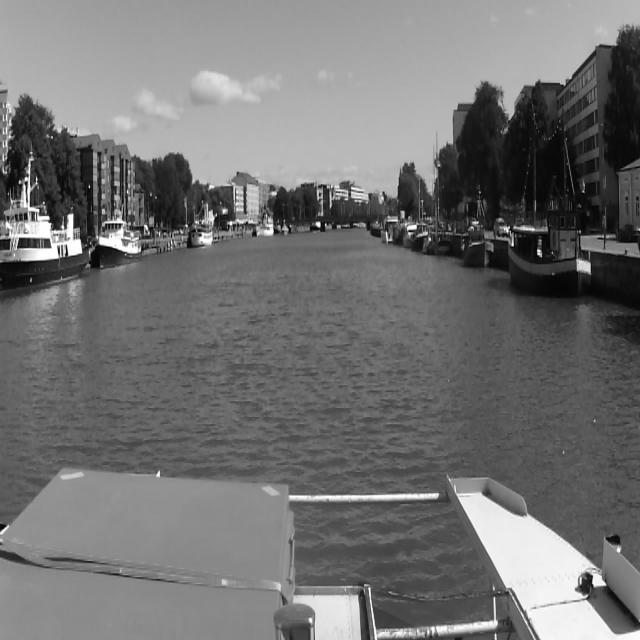ship: (2, 156, 92, 302), (507, 222, 591, 294), (96, 204, 144, 268), (459, 219, 497, 272), (187, 214, 213, 246), (249, 208, 275, 239), (381, 212, 401, 245), (402, 220, 418, 247), (282, 218, 288, 234), (275, 218, 281, 234)
